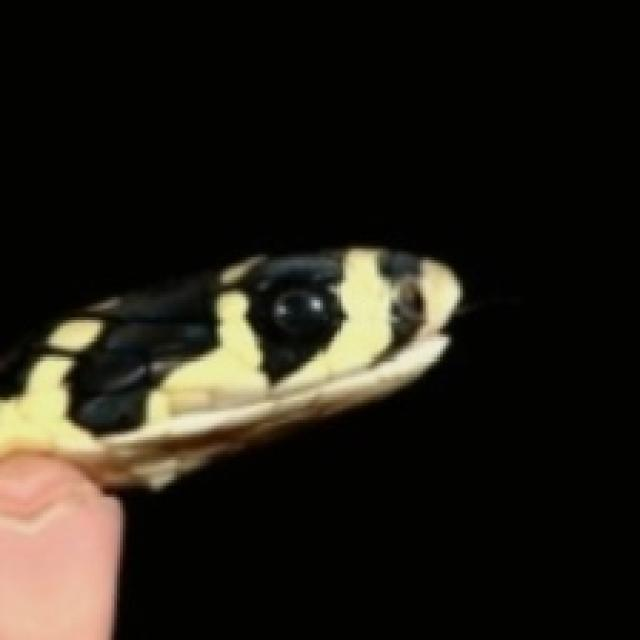king cobra: (0, 249, 460, 486)
